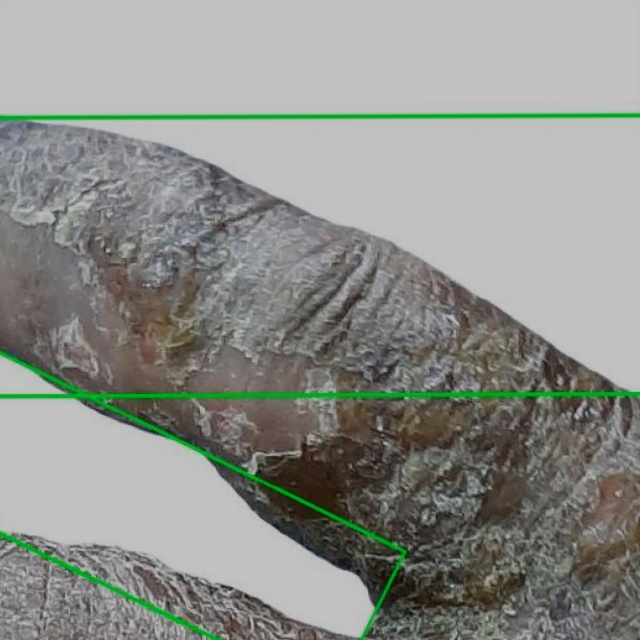Eczema: (0, 115, 639, 639), (0, 0, 639, 396), (0, 353, 410, 639)
